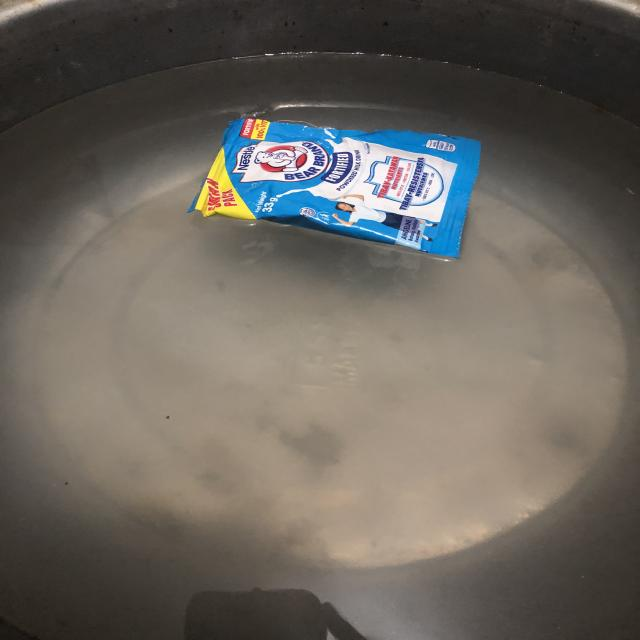Plastic Wrapper: (182, 110, 482, 265)
